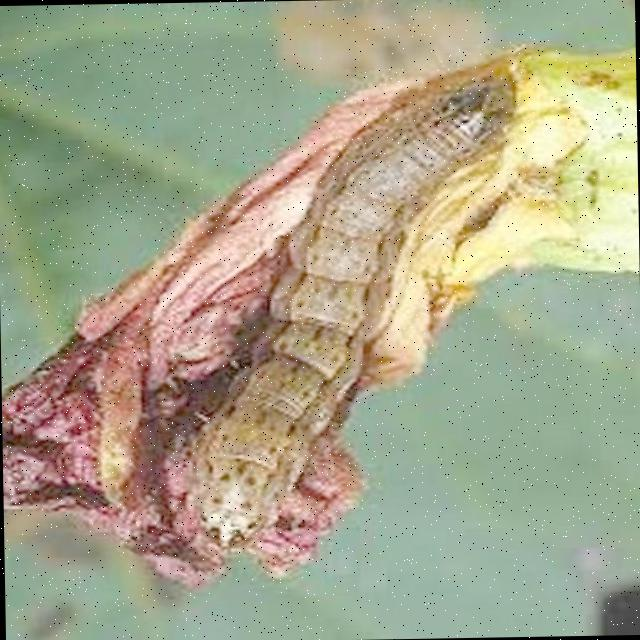worm: (1, 22, 640, 600), (178, 68, 530, 558)
